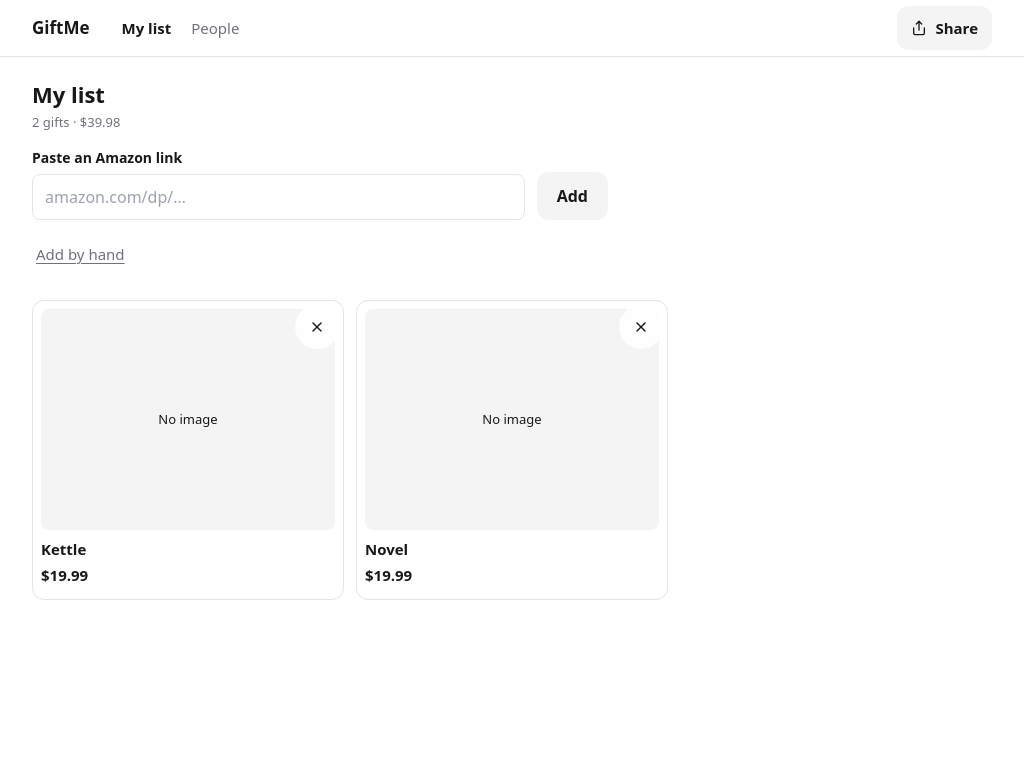
Test case: GiftApp › moves focus to the list heading after removing a gift
Click the button named "Remove Kettle" at (317, 327), box [295,305,339,349]
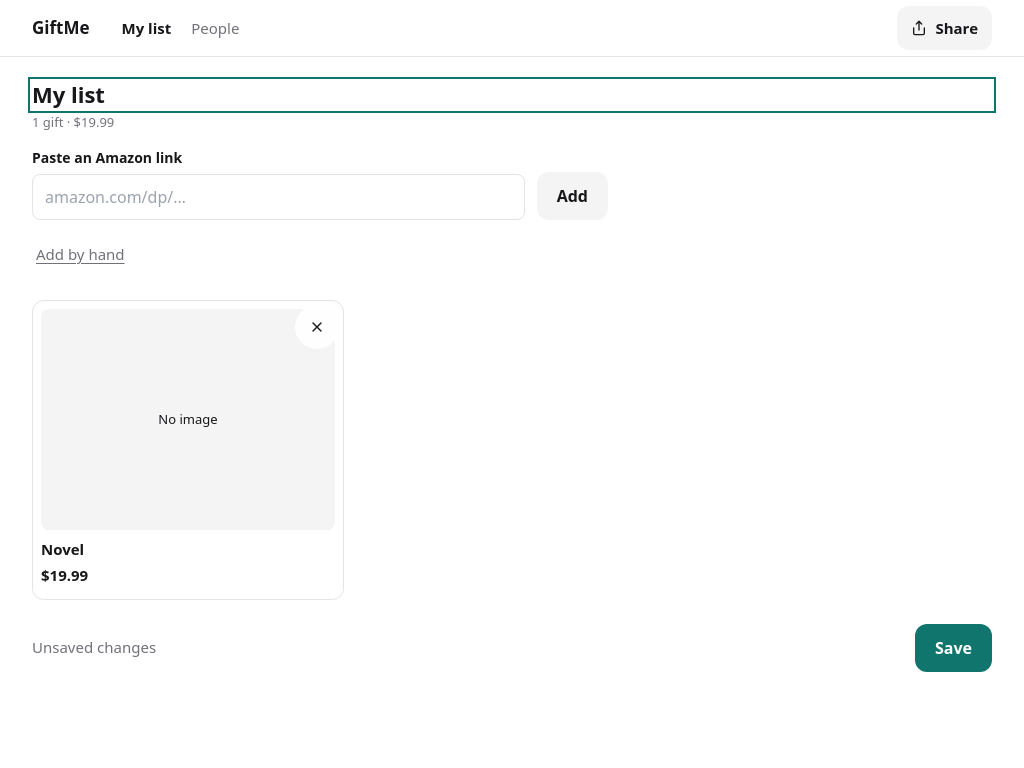
Now the heading "Kettle" is gone
